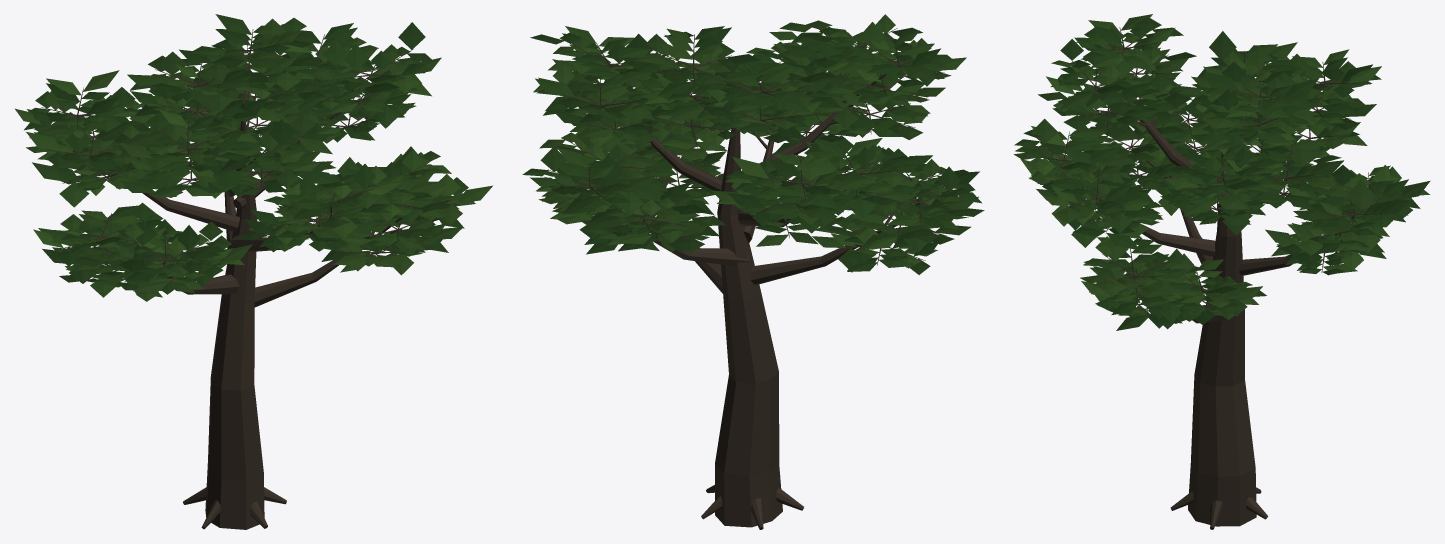
File: broadleaf_tree.glb
3 renders of one model, left to right at view 1: azimuth 30°, elevation 25°; view 2: azimuth 150°, elevation 25°; view 3: azimuth 270°, elevation 25°, orthographic. The views are drawn at different scales.
Visible parts, largest first — view 1: broadleaf_tree; view 2: broadleaf_tree; view 3: broadleaf_tree.
Boxes of the visible parts, x1,y1,x2,y2 form: broadleaf_tree: (15,14,492,529); broadleaf_tree: (522,14,984,529); broadleaf_tree: (1014,14,1430,529).
Bounding box in the file's own units: 4.28 × 4.69 × 3.9.
